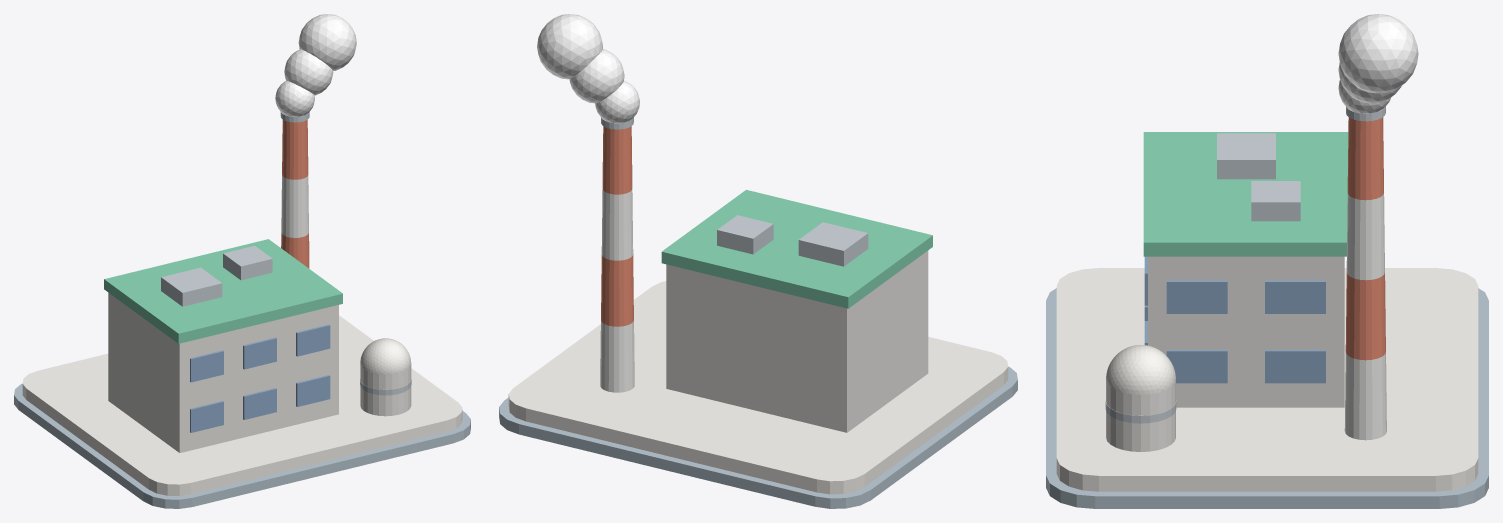
File: other.glb
3 views of the same model, side by side, from view 1: azimuth 30°, elevation 25°; view 2: azimuth 150°, elevation 25°; view 3: azimuth 270°, elevation 25° (orthographic). The views are drawn at different scales.
Parts seen in each view (by area): view 1: base, concrete, battery_accent, rim_7f97a8, window, steam, metal, tank, red, white; view 2: base, concrete, battery_accent, rim_7f97a8, steam, white, red, metal; view 3: base, battery_accent, concrete, rim_7f97a8, window, white, tank, steam, red, metal.
Boxes of the visible parts, x1,y1,x2,y2 form: base: [22, 315, 462, 495]; concrete: [108, 292, 338, 452]; battery_accent: [104, 239, 342, 343]; rim_7f97a8: [14, 383, 470, 508]; window: [190, 324, 330, 432]; steam: [275, 14, 356, 116]; metal: [161, 112, 411, 395]; tank: [360, 338, 411, 416]; red: [281, 119, 309, 268]; white: [281, 175, 308, 237]; base: [508, 281, 1008, 494]; concrete: [666, 250, 928, 432]; battery_accent: [661, 189, 932, 308]; rim_7f97a8: [499, 366, 1017, 508]; steam: [537, 14, 639, 122]; white: [600, 190, 634, 392]; red: [601, 126, 633, 326]; metal: [601, 117, 868, 266]; base: [1056, 268, 1478, 491]; battery_accent: [1143, 132, 1348, 256]; concrete: [1148, 256, 1344, 407]; rim_7f97a8: [1046, 288, 1488, 508]; window: [1144, 256, 1325, 383]; white: [1344, 193, 1386, 440]; tank: [1106, 345, 1175, 451]; steam: [1338, 14, 1418, 113]; red: [1345, 117, 1385, 360]; metal: [1105, 106, 1385, 423].
Size of the model in its own units: 7.3 by 7.34 by 6.3.
